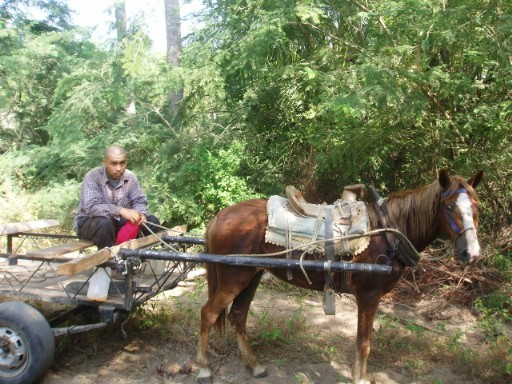horse: (197, 168, 486, 383)
